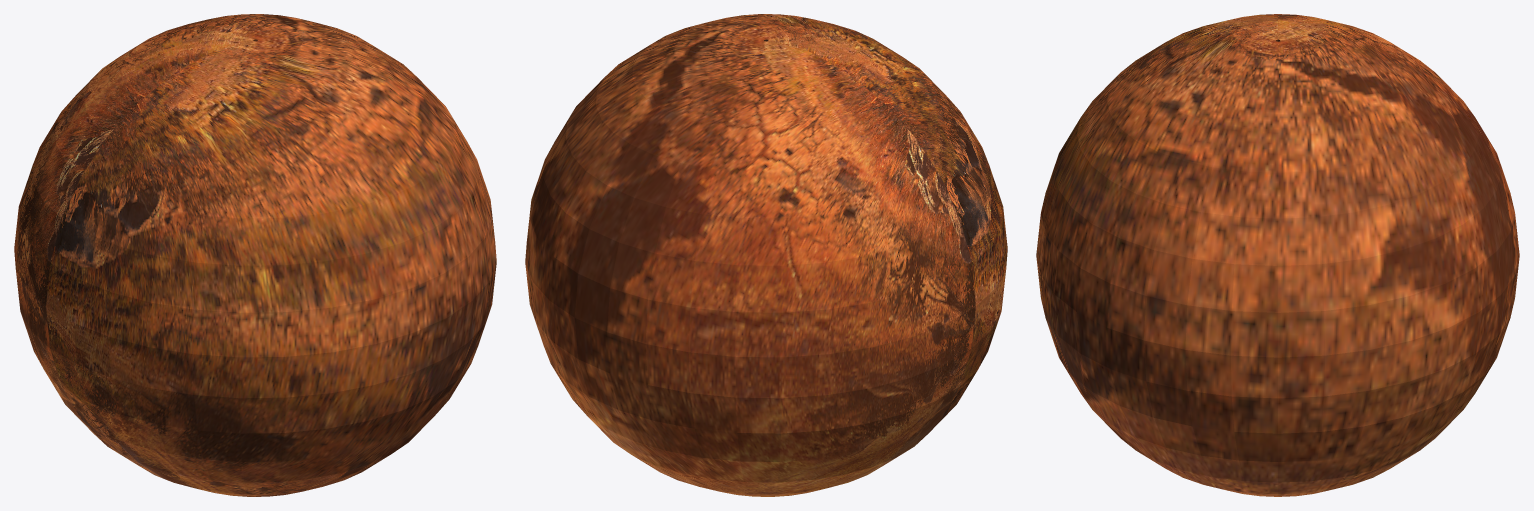
File: objtex.obj
3 views of the same model, side by side, from view 1: azimuth 30°, elevation 25°; view 2: azimuth 150°, elevation 25°; view 3: azimuth 270°, elevation 25° (orthographic).
Visible parts, largest first — view 1: Sphere; view 2: Sphere; view 3: Sphere.
Part boxes in pixels (<box>): Sphere: <box>14,14,496,496</box>; Sphere: <box>525,14,1007,496</box>; Sphere: <box>1036,14,1519,496</box>.
Bounding box in the file's own units: 110 × 108 × 110.
